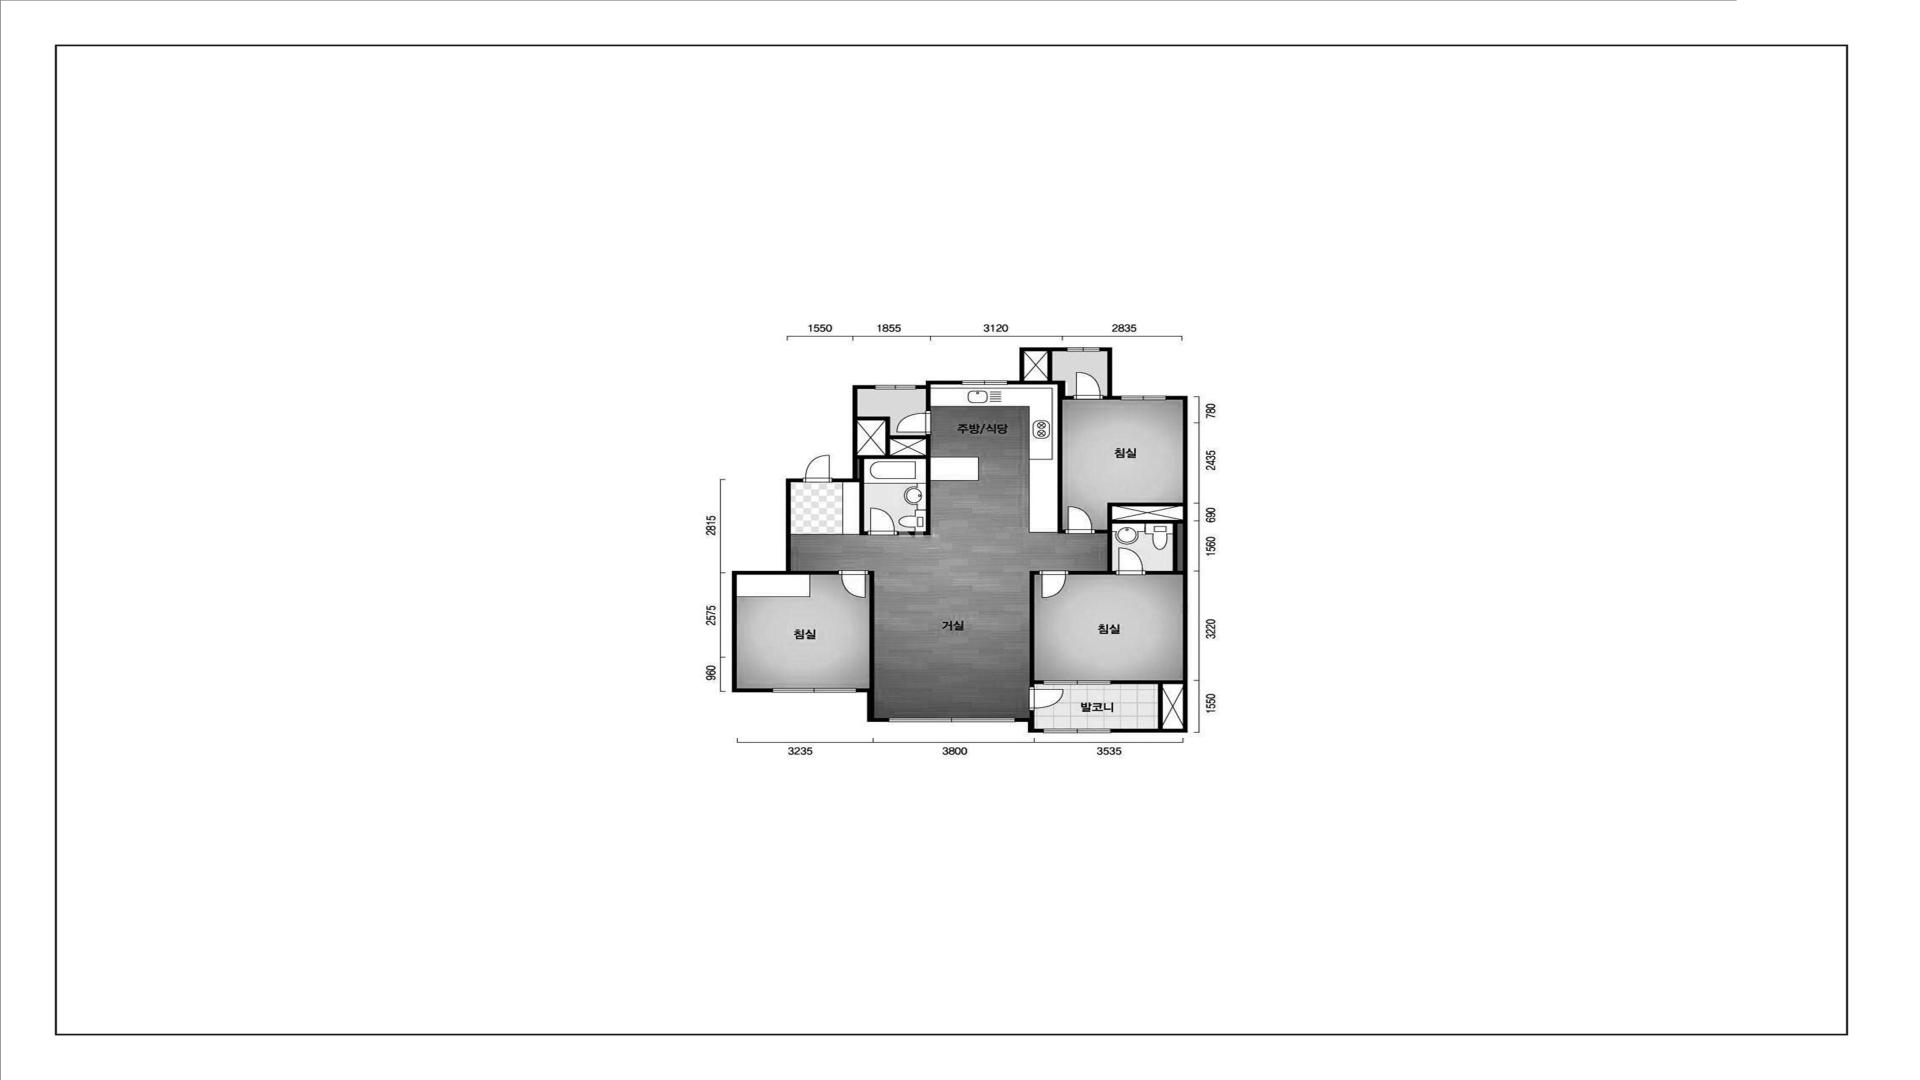background: (1, 0, 1919, 1080)
door: (1029, 687, 1064, 711), (1039, 570, 1068, 599), (839, 570, 868, 599), (1073, 372, 1104, 400), (1116, 547, 1146, 575), (868, 508, 898, 535), (897, 410, 931, 434), (803, 455, 832, 483), (1065, 506, 1095, 534)
wall: (1166, 396, 1187, 728), (1058, 381, 1073, 534), (1030, 571, 1043, 687), (1095, 502, 1113, 571), (868, 571, 874, 688), (866, 692, 889, 721), (1100, 347, 1113, 396), (732, 575, 737, 692), (860, 459, 868, 535), (1007, 351, 1025, 384), (786, 483, 791, 571), (1015, 717, 1043, 733), (1110, 728, 1187, 733), (926, 434, 930, 535), (915, 381, 961, 389), (853, 389, 857, 479), (1112, 680, 1183, 684), (1112, 520, 1183, 524), (1112, 502, 1183, 506), (857, 455, 926, 459), (1172, 524, 1178, 571), (1158, 684, 1163, 729), (732, 571, 791, 575), (1068, 571, 1116, 575), (1019, 347, 1067, 351), (791, 571, 839, 575), (885, 421, 890, 455), (1047, 351, 1052, 381), (1146, 571, 1183, 575), (737, 688, 773, 692), (890, 435, 926, 439), (1023, 381, 1058, 385), (857, 417, 890, 421), (926, 389, 931, 411), (832, 479, 860, 483), (898, 531, 926, 535), (853, 385, 876, 389), (856, 688, 874, 692), (1102, 396, 1121, 400), (786, 479, 803, 483), (1030, 711, 1034, 717)
window: (889, 719, 1014, 723), (773, 688, 856, 692), (1043, 729, 1112, 733), (1043, 680, 1112, 684), (961, 380, 1007, 385), (1121, 396, 1166, 401), (1067, 347, 1100, 352), (876, 385, 915, 389)
